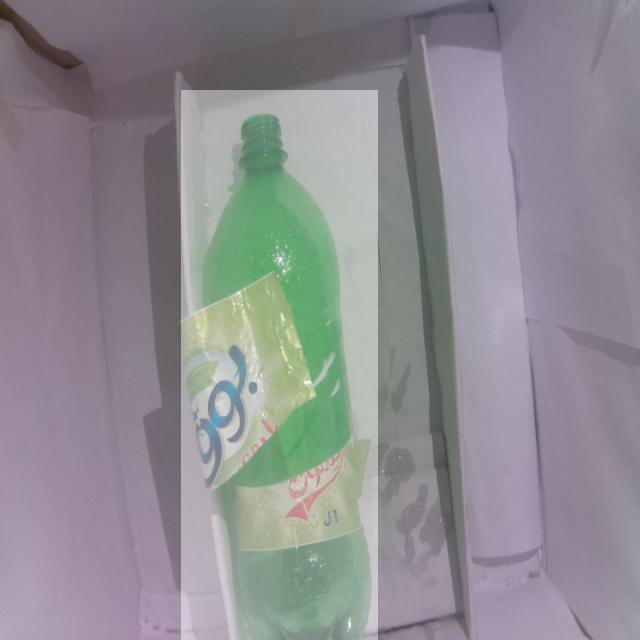BIODEGRADABLE: (181, 90, 378, 640)
